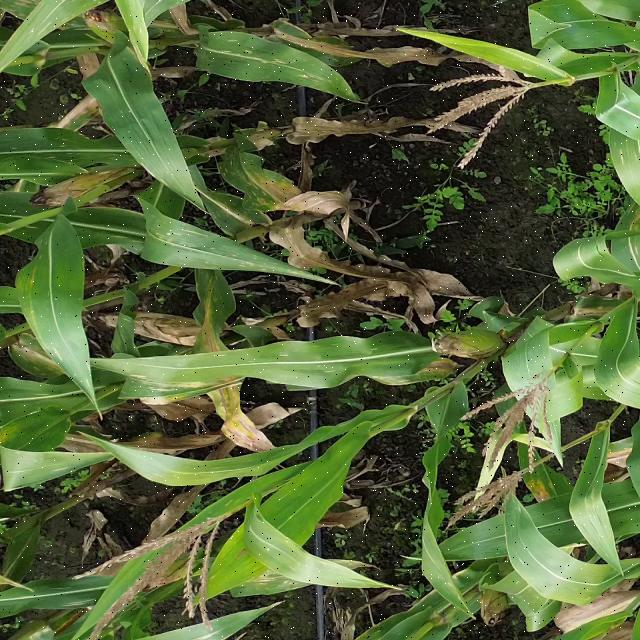gray-leaf-spot: (151, 214, 307, 288), (0, 0, 153, 72), (194, 338, 402, 388), (216, 140, 310, 237), (230, 562, 304, 626), (601, 99, 640, 188)
northern-leaf-blight: (187, 303, 289, 460), (520, 449, 582, 517)
southern-leaf-blight: (225, 17, 355, 113), (2, 96, 141, 172)
